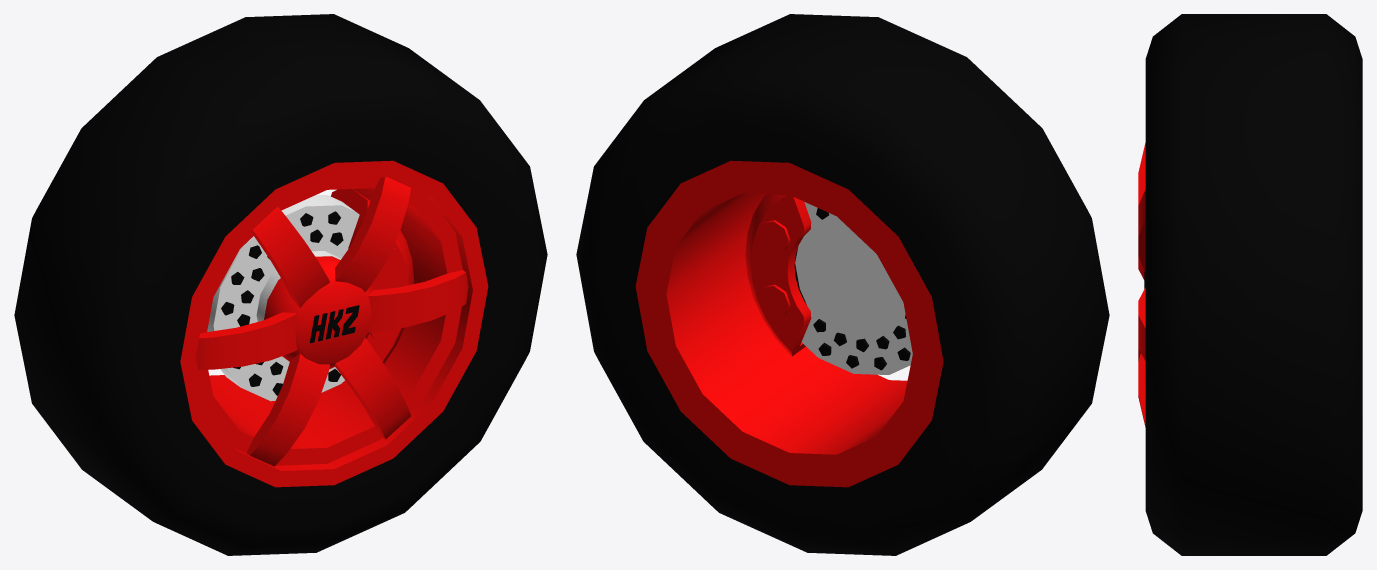
Rendered from VOLK WHEEL 2X.fbx.
The picture shows the model from 3 angles, left to right: view 1: azimuth 30°, elevation 25°; view 2: azimuth 150°, elevation 25°; view 3: azimuth 270°, elevation 25°; orthographic projection.
Visible parts, largest first — view 1: TYRE, RIM, BRAKES LVL1, BRAKES LVL 2, BRAKES LVL3; view 2: TYRE, RIM, BRAKES LVL1, BRAKES LVL 2, BRAKES LVL3; view 3: TYRE, RIM.
Boxes of the visible parts, x1=… form: TYRE: x1=14, y1=14, x2=547, y2=555; RIM: x1=180, y1=160, x2=488, y2=487; BRAKES LVL1: x1=207, y1=195, x2=359, y2=401; BRAKES LVL 2: x1=331, y1=189, x2=414, y2=363; BRAKES LVL3: x1=221, y1=211, x2=343, y2=395; TYRE: x1=576, y1=14, x2=1109, y2=555; RIM: x1=635, y1=160, x2=943, y2=487; BRAKES LVL1: x1=795, y1=202, x2=912, y2=374; BRAKES LVL 2: x1=745, y1=194, x2=811, y2=356; BRAKES LVL3: x1=813, y1=208, x2=910, y2=370; TYRE: x1=1145, y1=14, x2=1362, y2=555; RIM: x1=1138, y1=142, x2=1145, y2=427.
Bounding box in the file's own units: 750 × 750 × 310.
